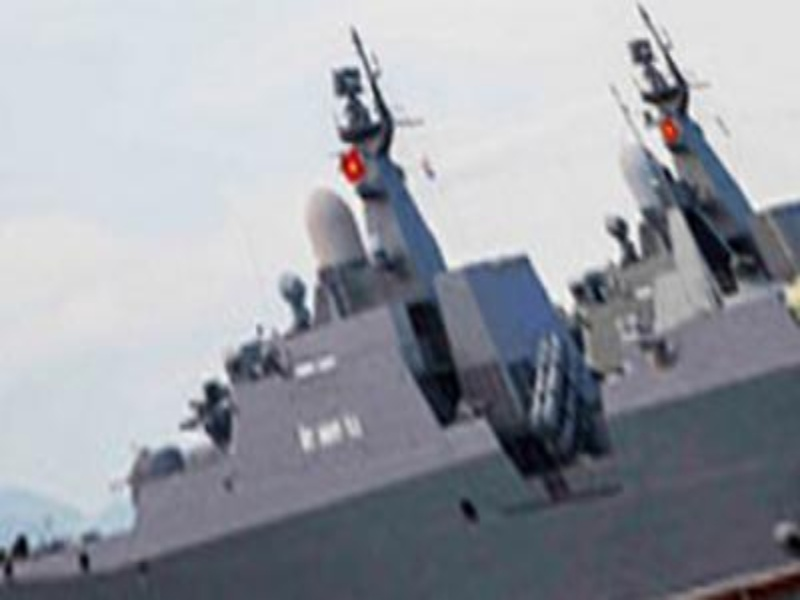cruise: (51, 97, 798, 591)
